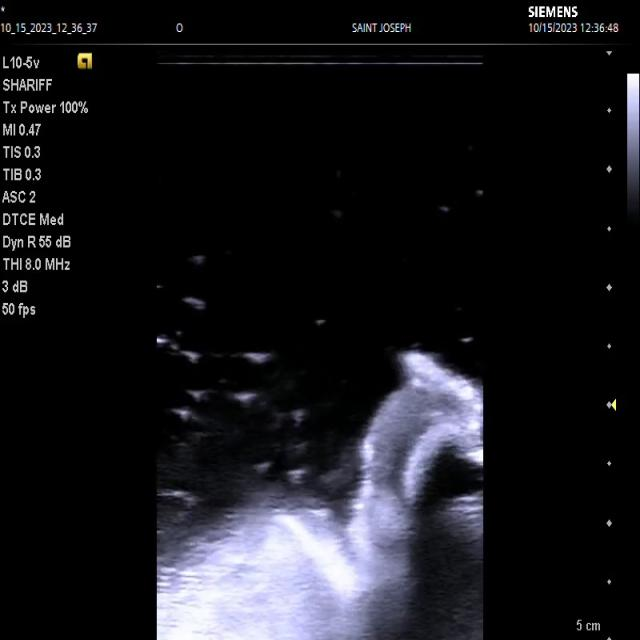tissue: (157, 353, 482, 640)
